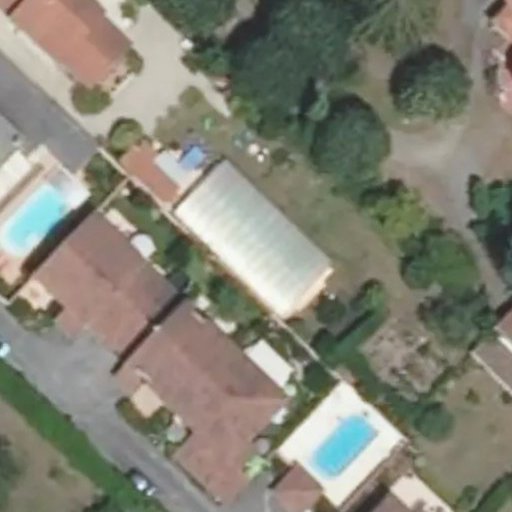pool: (197, 219, 314, 264)
